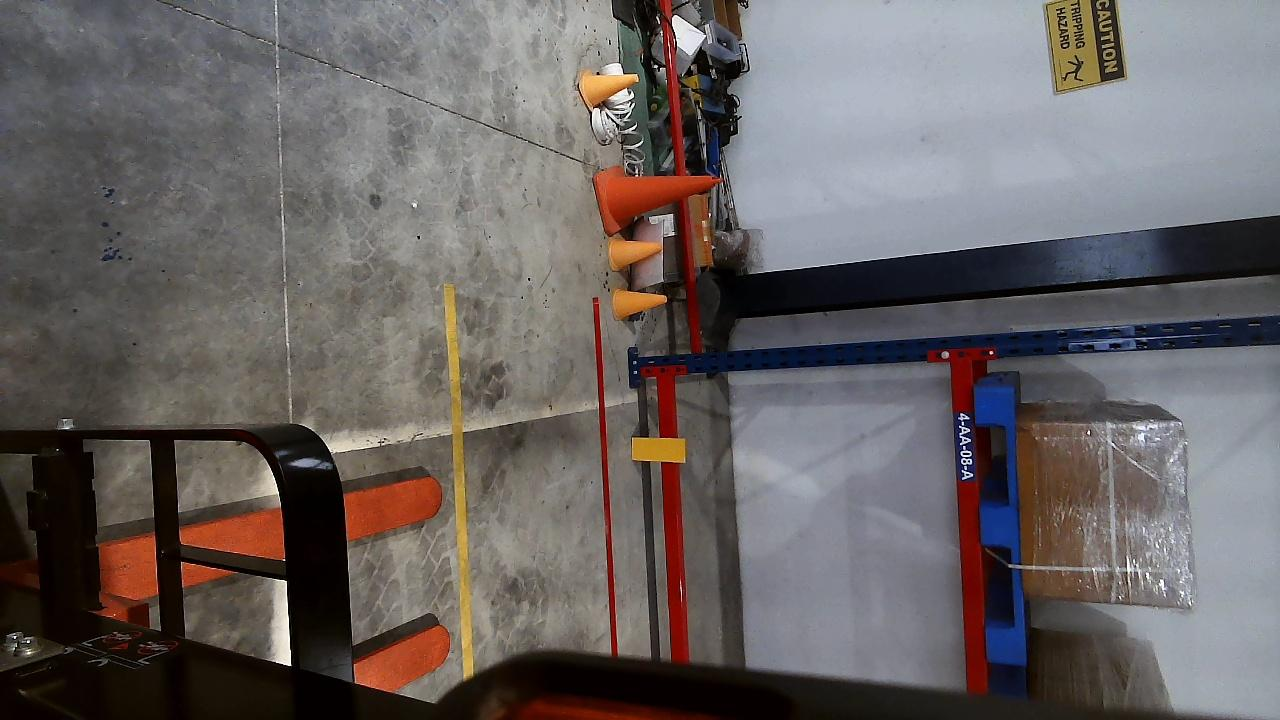h_rack: (949, 360, 988, 697), (654, 376, 688, 658)
orange_strip: (630, 437, 685, 462)
red_line: (590, 296, 616, 657)
small_pallet: (977, 386, 1030, 663)
yellow_line: (442, 284, 474, 682)
